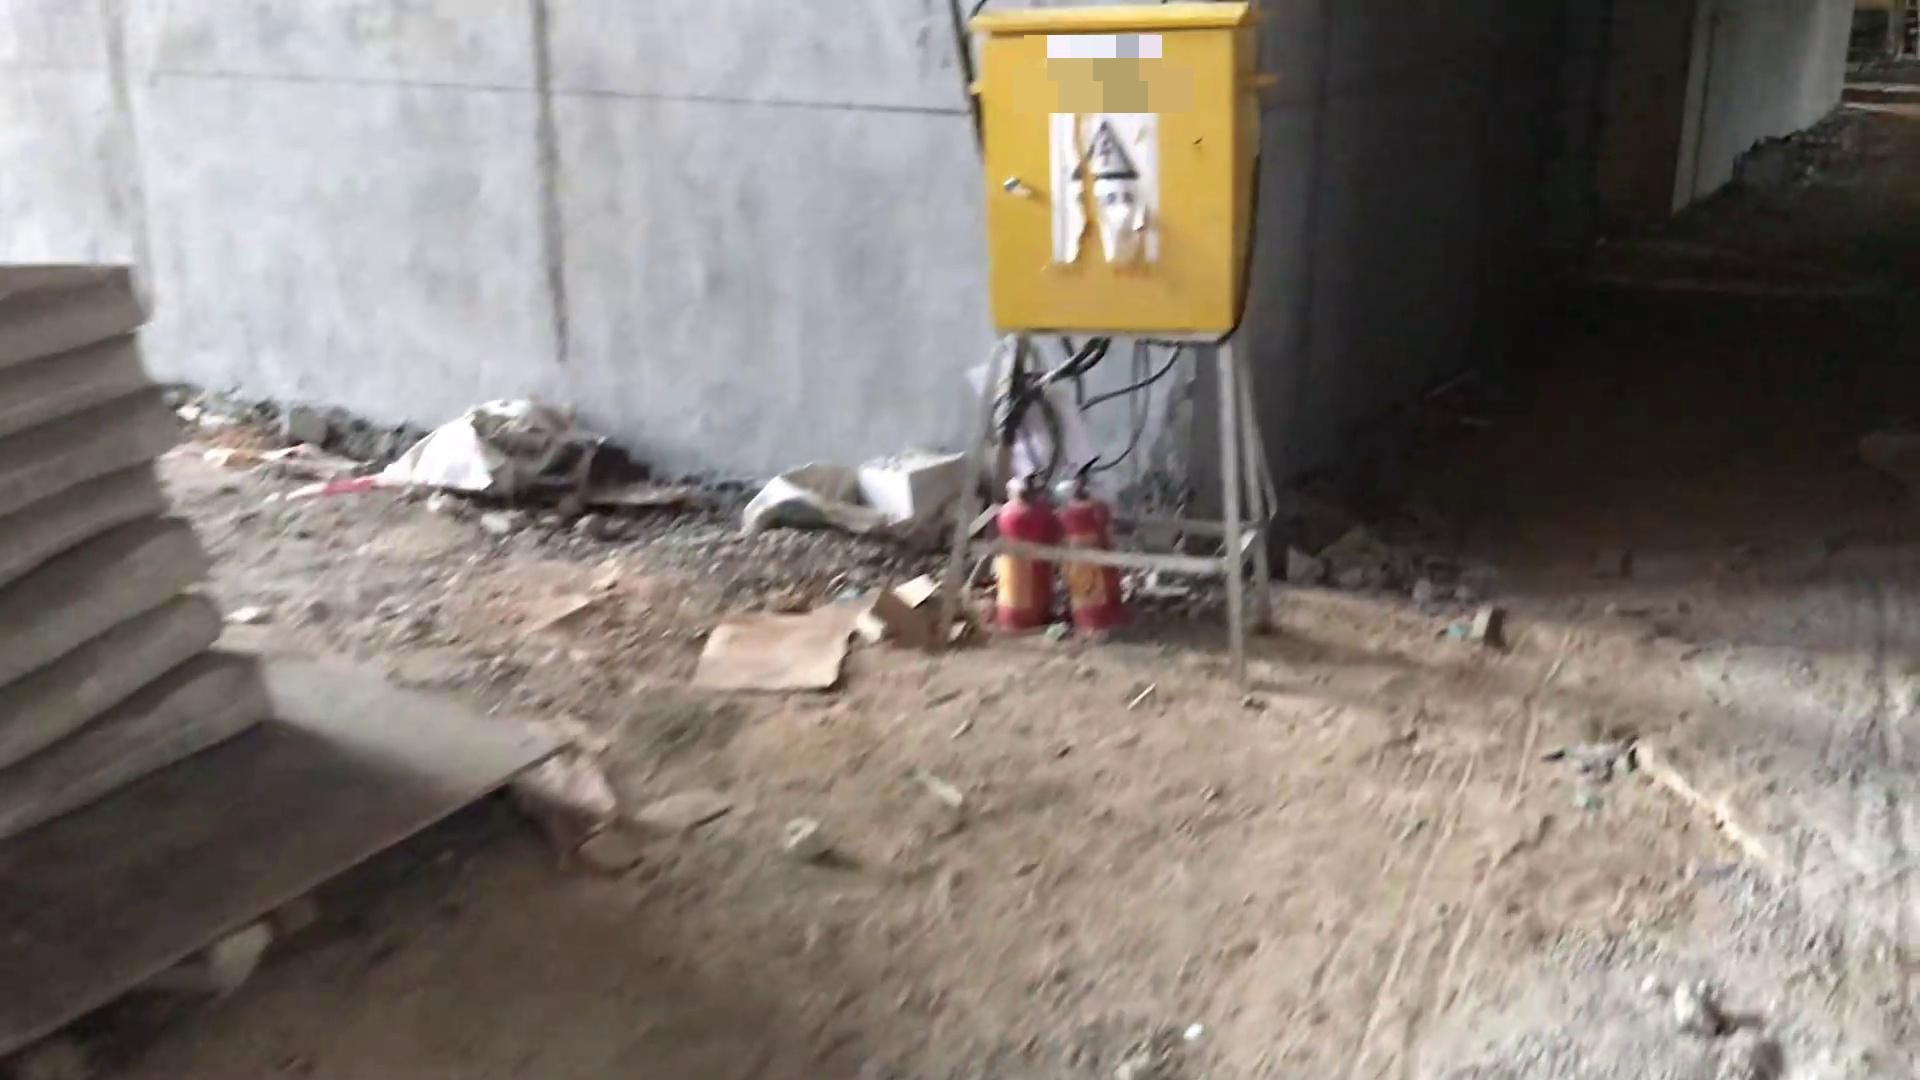ebox: (940, 7, 1294, 369)
